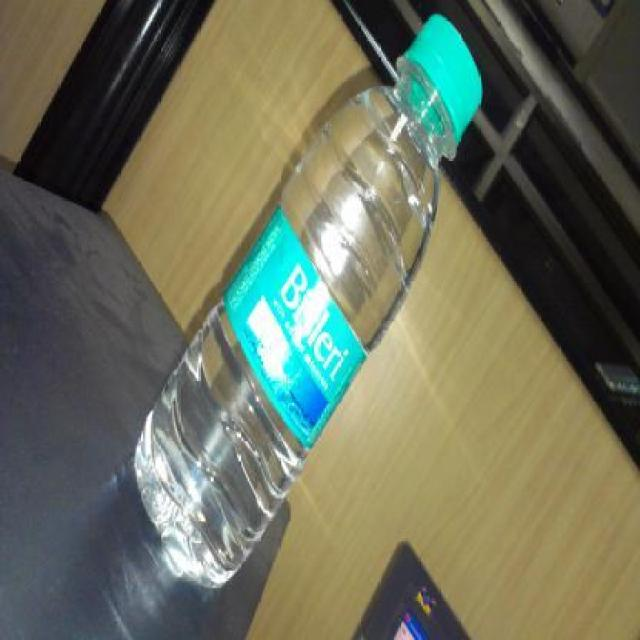bottle: (126, 0, 492, 640)
